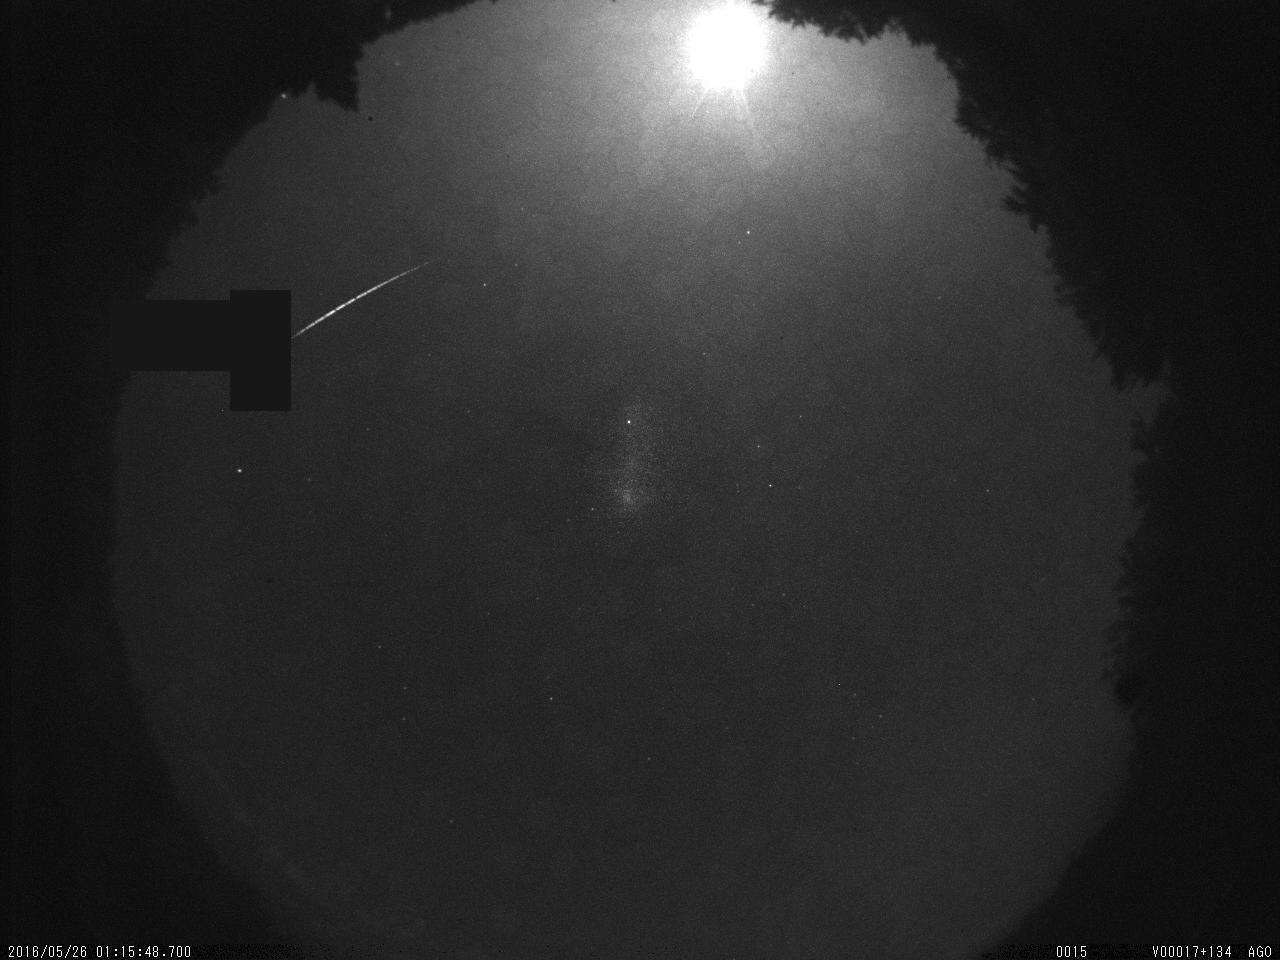Meteor: (286, 254, 438, 345)
